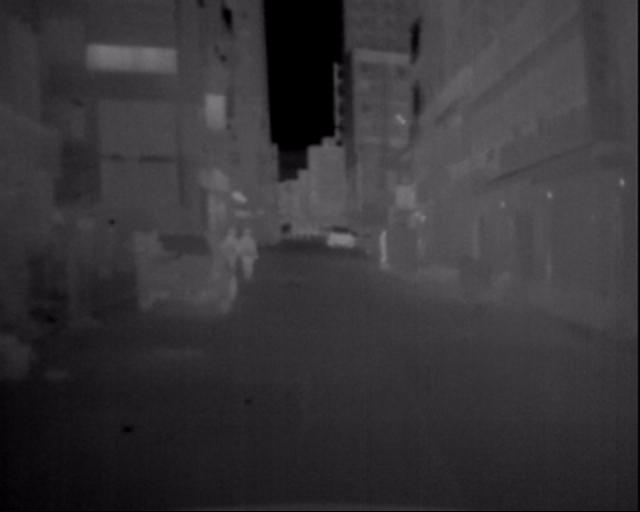person: (225, 221, 261, 297), (374, 218, 395, 263)
